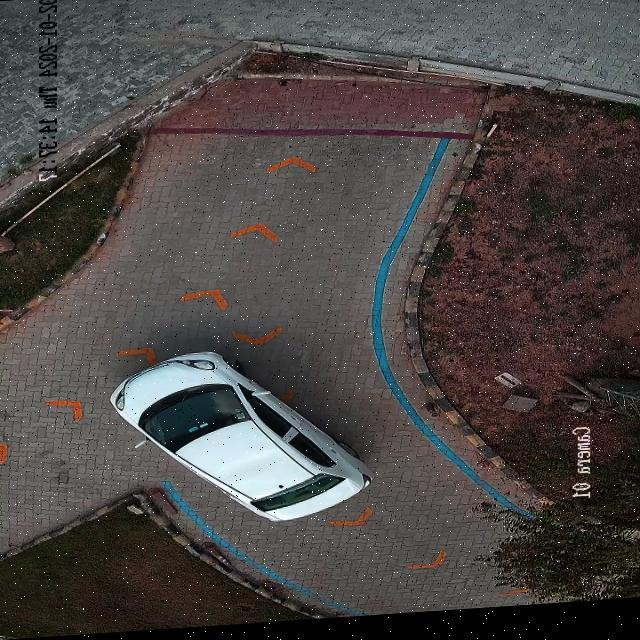car: (111, 353, 370, 524)
